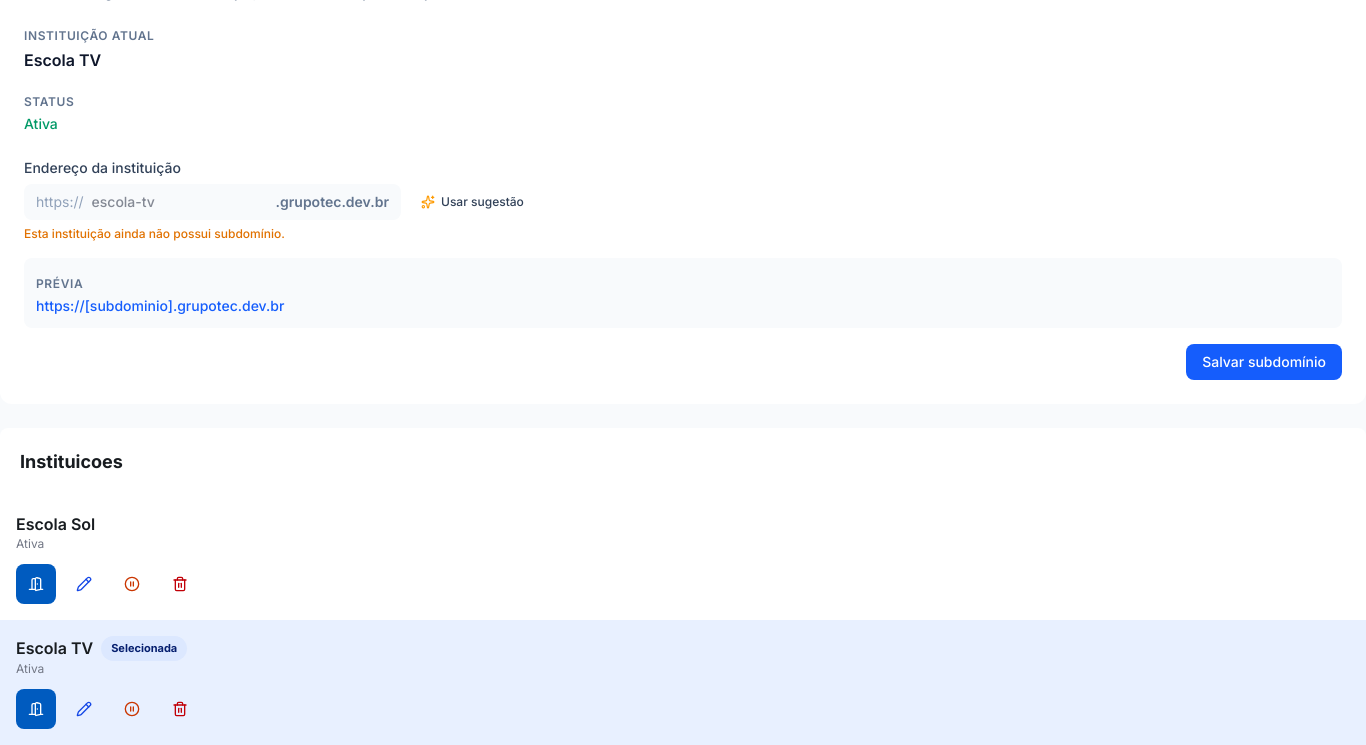
Test: AccountPage › ADMIN edita o nome da instituicao usando o institution.id e preserva a selecao
The width and height of the screenshot is (1366, 745).
(page scrolled)
Check: the button named "Editar instituicao Escola Sol" is shown, box [64,564,104,604]
Click the button named "Editar instituicao Escola TV" at (84, 708), box [64,688,104,728]
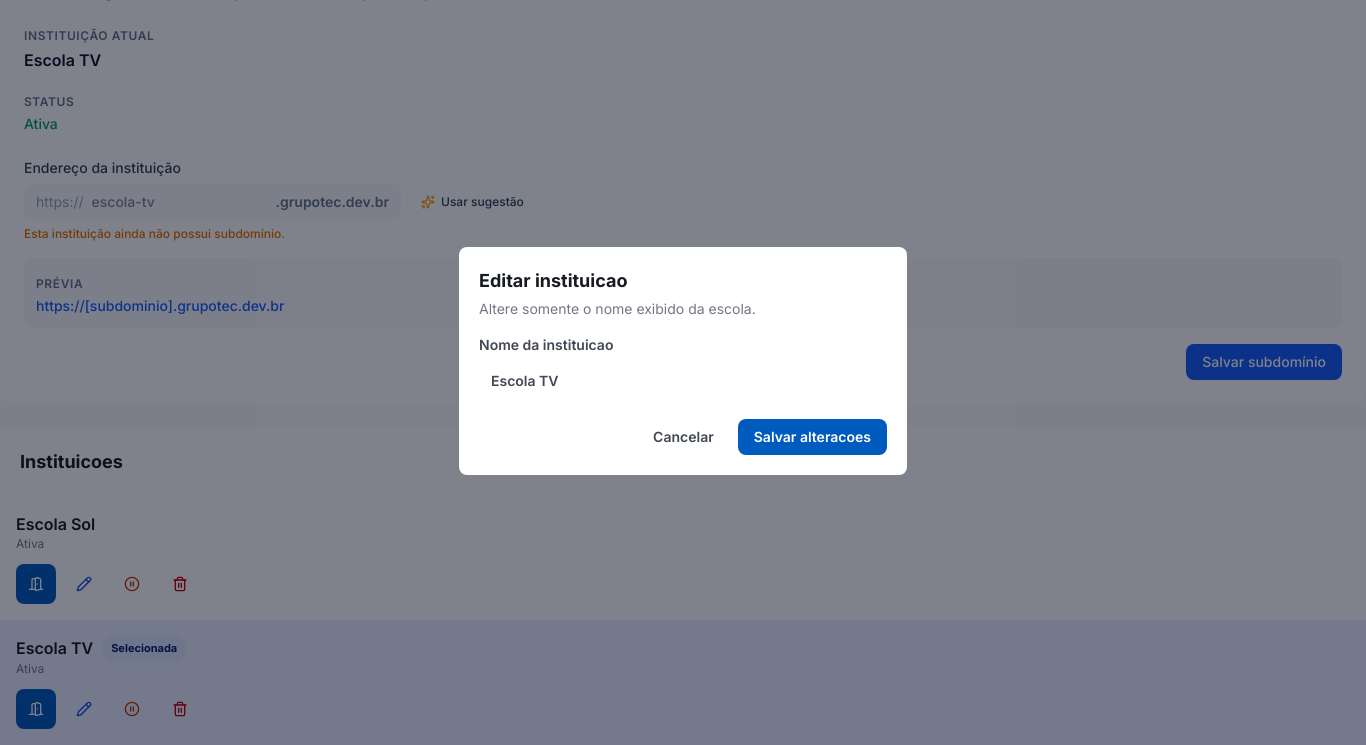
Check: the form "Editar instituicao" is shown, box [459,247,907,475]
Check: the field labelled "Nome da instituicao" holds "Escola TV"
Replace the text in the field labelled "Nome da instituicao" with "   Colegio TV   " at (683, 381), box [479,363,887,399]
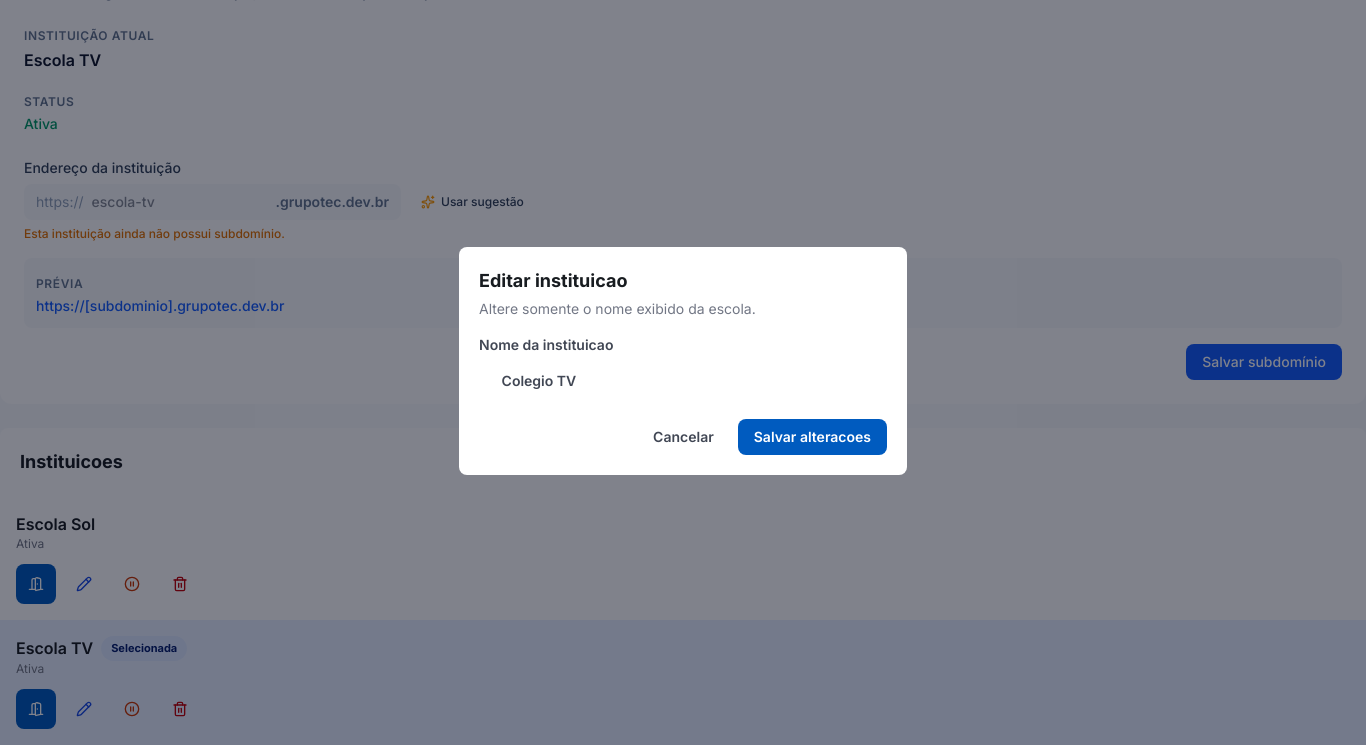
Click the button "Salvar alteracoes" at (812, 437), box [738,419,887,455]
(page scrolled)
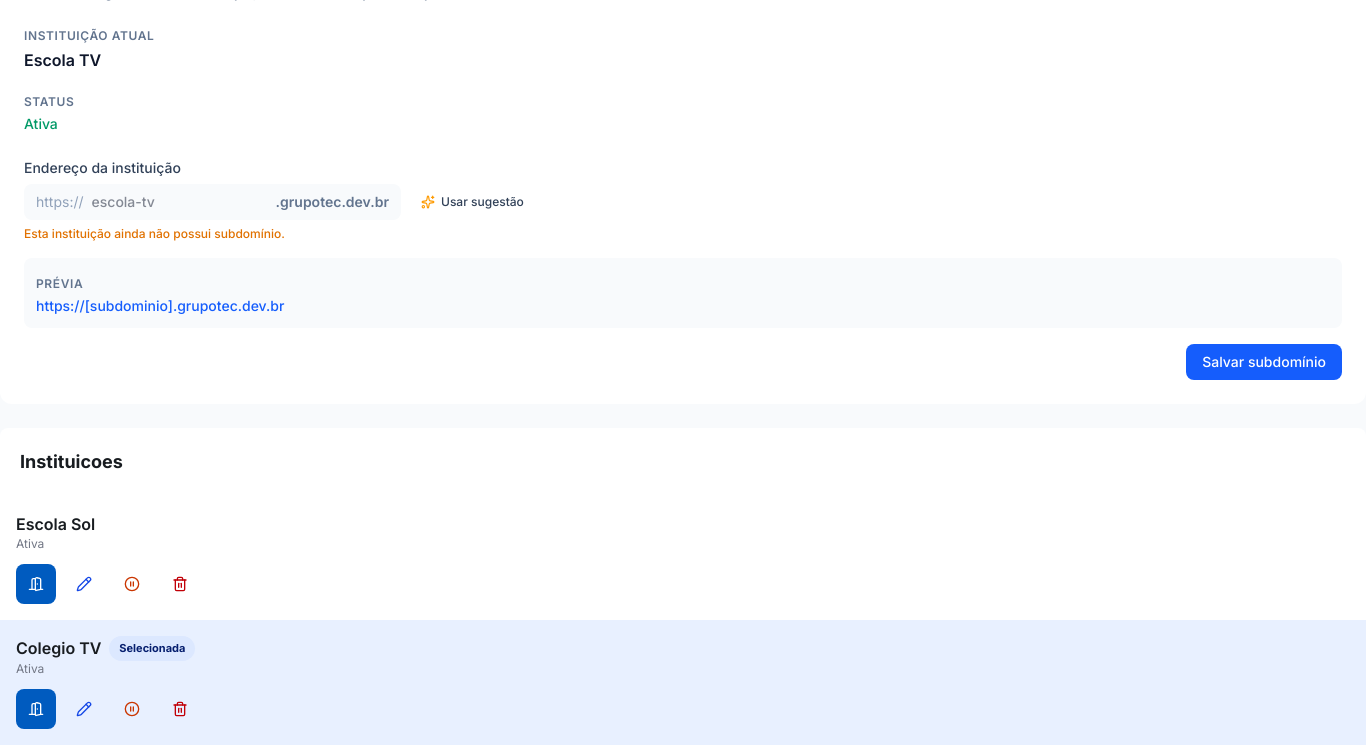
Check: the text "Selecionada" is shown, box [109,636,195,660]
Check: the text "Colegio TV" is shown, box [16,636,101,660]
Check: the heading "Editar instituicao" is gone
